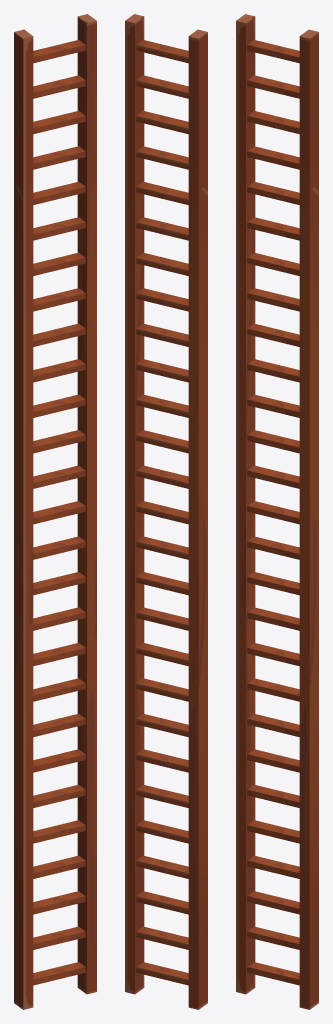
File: ladder.fbx
3 renders of one model, left to right at view 1: azimuth 30°, elevation 25°; view 2: azimuth 150°, elevation 25°; view 3: azimuth 330°, elevation 25°, orthographic.
Parts seen in each view (by area): view 1: pCube39; view 2: pCube39; view 3: pCube39.
Part boxes in pixels (x1=…): pCube39: x1=14, y1=14, x2=96, y2=1009; pCube39: x1=125, y1=14, x2=207, y2=1009; pCube39: x1=236, y1=14, x2=318, y2=1009.
Size of the model in its own units: 2.85 by 35.9 by 0.6255.
